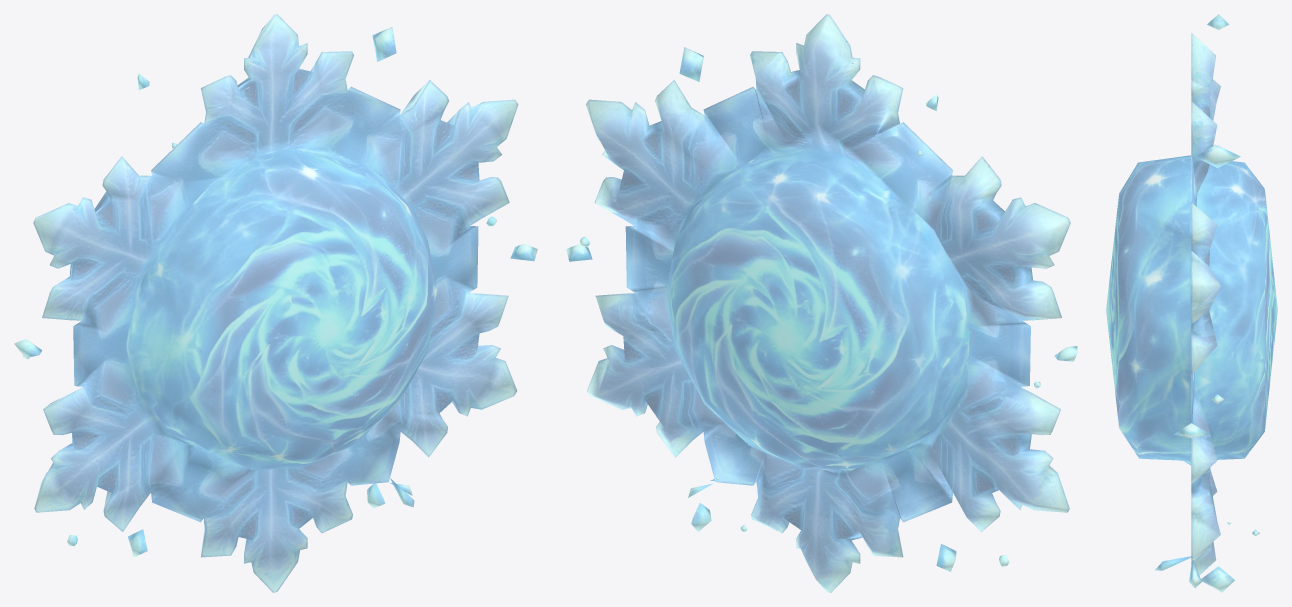
File: fuzeball_powerup_frost.glb
3 views of the same model, side by side, from view 1: azimuth 30°, elevation 25°; view 2: azimuth 150°, elevation 25°; view 3: azimuth 270°, elevation 25° (orthographic). The views are drawn at different scales.
Parts seen in each view (by area): view 1: powerup_frost; view 2: powerup_frost; view 3: powerup_frost.
Boxes of the visible parts, left/top/right/bottom form: powerup_frost: left=14, top=14, right=537, bottom=592; powerup_frost: left=566, top=14, right=1077, bottom=592; powerup_frost: left=1106, top=14, right=1277, bottom=592.
Size of the model in its own units: 0.9355 by 0.998 by 0.2832.
1 material, 1 textured.
